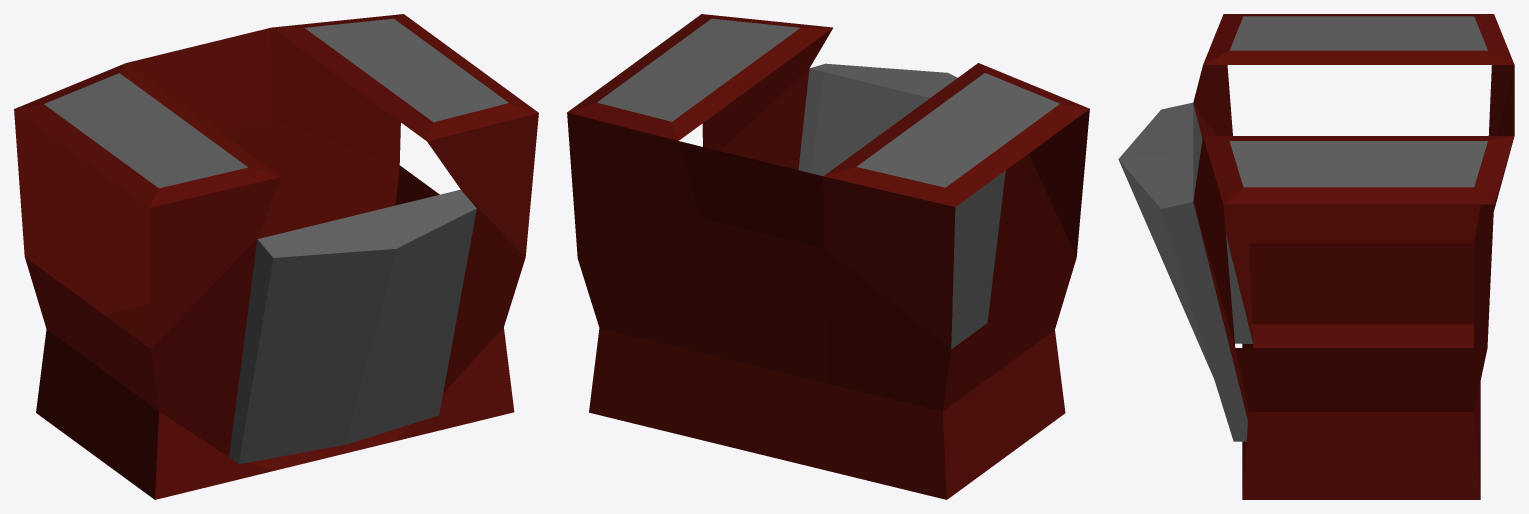
File: armor_medium.obj
3 views of the same model, side by side, from view 1: azimuth 30°, elevation 25°; view 2: azimuth 150°, elevation 25°; view 3: azimuth 270°, elevation 25° (orthographic).
Parts seen in each view (by area): view 1: armor_medium; view 2: armor_medium; view 3: armor_medium.
Part boxes in pixels (bbox=[...]): armor_medium: bbox=[14, 14, 538, 499]; armor_medium: bbox=[567, 14, 1089, 499]; armor_medium: bbox=[1118, 14, 1514, 499].
Size of the model in its own units: 0.2036 by 0.1577 by 0.179.
